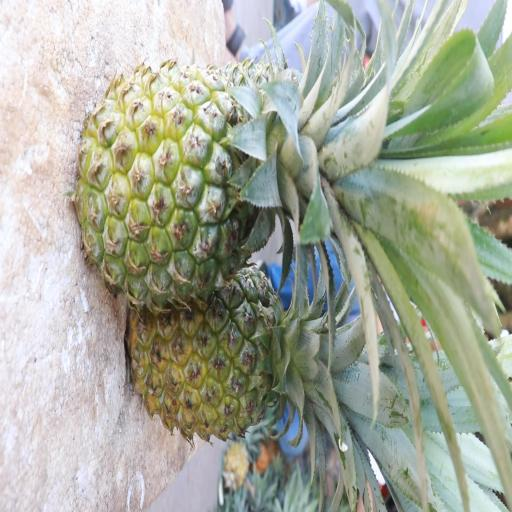------------------------------: (84, 50, 346, 292)
Pineapple - v8 v1: (133, 269, 345, 445)
